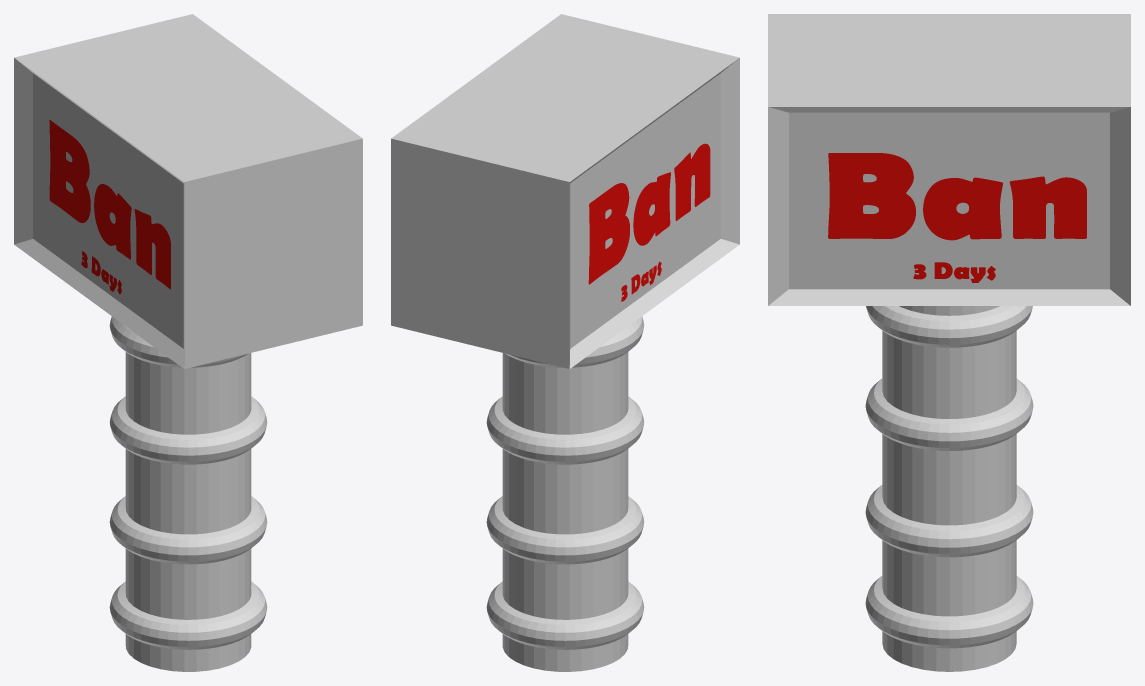
The model's file is Ban_Hammer.fbx.
3 views of the same model, side by side, from view 1: azimuth 30°, elevation 25°; view 2: azimuth 150°, elevation 25°; view 3: azimuth 270°, elevation 25° (orthographic). The views are drawn at different scales.
Parts seen in each view (by area): view 1: Cube, Cylinder, Text, Torus, Torus.001, Torus.002, Torus.003; view 2: Cube, Cylinder, Text, Torus, Torus.001, Torus.002, Torus.003; view 3: Cube, Cylinder, Text.001, Torus, Torus.001, Torus.002, Torus.003, Text.002.
Part boxes in pixels (<box>): Cube: <box>14,14,362,368</box>; Cylinder: <box>125,352,251,671</box>; Text: <box>49,120,170,289</box>; Torus: <box>109,581,267,649</box>; Torus.001: <box>109,496,267,564</box>; Torus.002: <box>109,396,267,464</box>; Torus.003: <box>109,316,248,367</box>; Cube: <box>391,14,739,368</box>; Cylinder: <box>502,352,628,671</box>; Text: <box>588,143,710,284</box>; Torus: <box>486,581,644,649</box>; Torus.001: <box>486,496,644,564</box>; Torus.002: <box>486,396,644,464</box>; Torus.003: <box>505,316,644,367</box>; Cube: <box>768,14,1130,305</box>; Cylinder: <box>882,306,1016,671</box>; Text.001: <box>828,153,1086,240</box>; Torus: <box>865,576,1033,648</box>; Torus.001: <box>865,485,1033,557</box>; Torus.002: <box>865,378,1033,450</box>; Torus.003: <box>866,306,1032,347</box>; Text.002: <box>913,262,995,282</box>.
Bounding box in the file's own units: 94.86 × 278 × 156.
